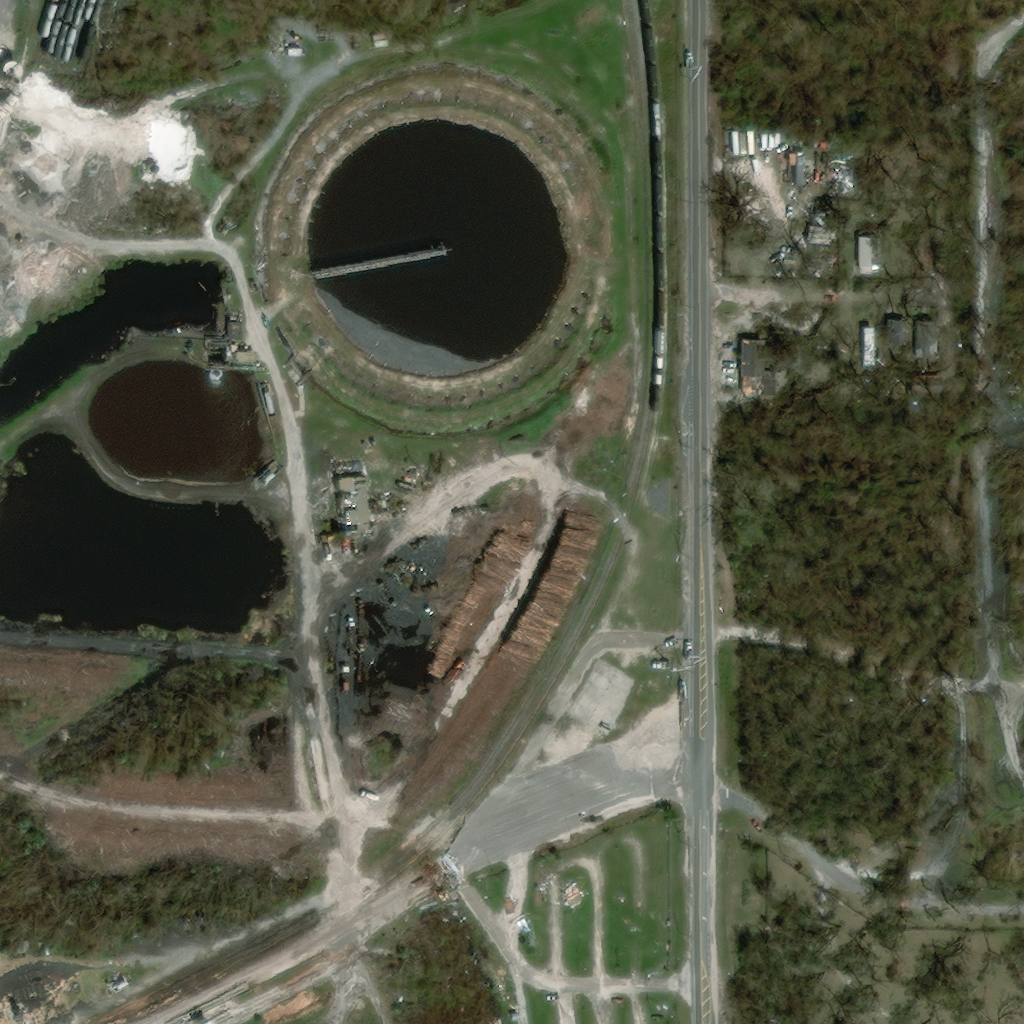destroyed: (273, 40, 287, 58), (404, 467, 422, 480), (436, 889, 451, 904), (535, 894, 548, 911), (536, 868, 548, 886), (453, 895, 462, 904)
major_damage: (335, 462, 384, 532), (782, 149, 802, 188)
minor_damage: (739, 341, 773, 395), (226, 320, 246, 342), (225, 351, 259, 363), (127, 966, 159, 975)
no_damage: (857, 237, 879, 274), (8, 941, 30, 959), (288, 47, 304, 59), (0, 84, 8, 104)
unclassified: (184, 1006, 207, 1023)
